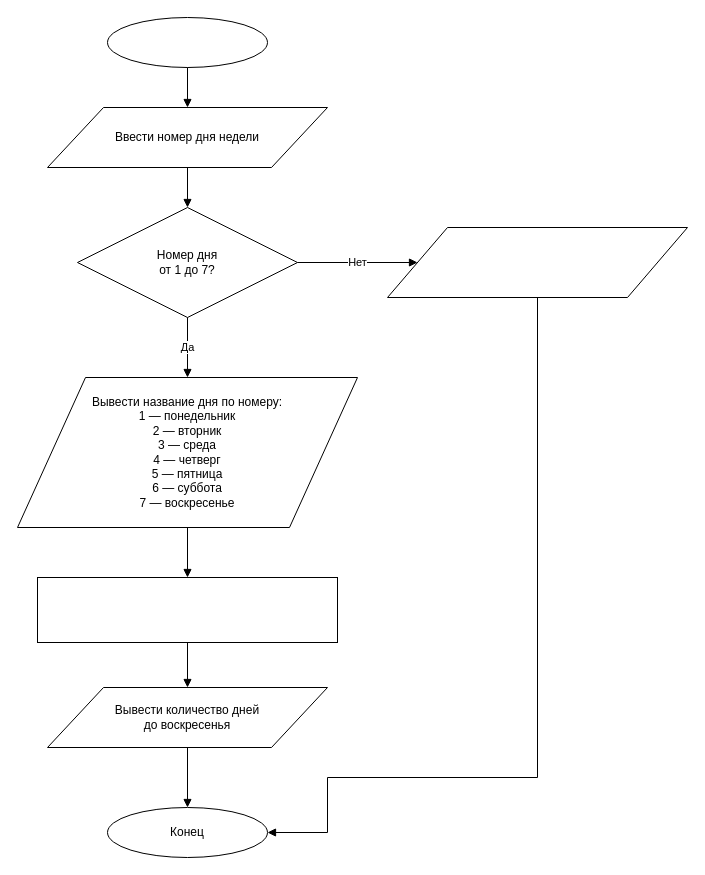
Image size: 705x875. Some labels were removed from this diagram. Each missing label, with the box of its shape:
Вывести сообщение: «Ошибка: неверный номер дня!»: (386, 226, 688, 298)
Количество дней до воскресенья = 7 − номер дня: (36, 576, 338, 642)
